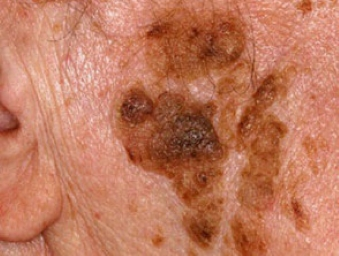seborrheic keratosis: (112, 9, 314, 252)
